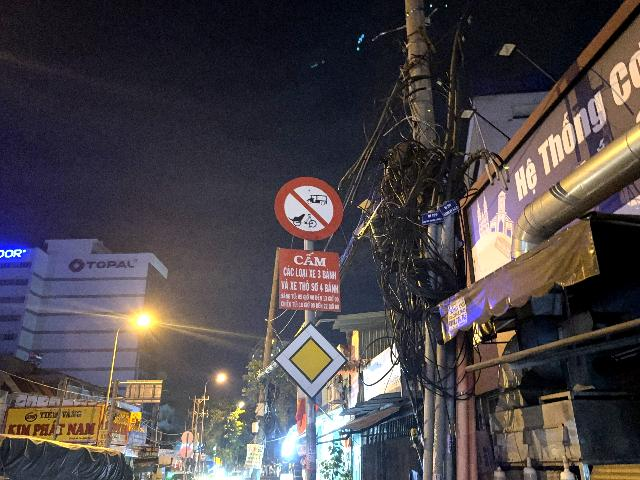bat-dau-duong-uu-tien: (273, 322, 348, 400)
cam-xe-3-banh-xe-tho-so-4-banh: (273, 176, 343, 240)
